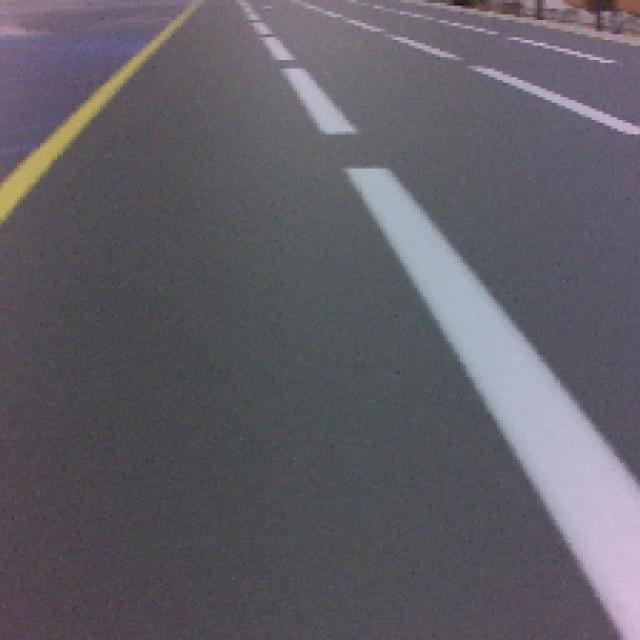Road: (0, 310, 628, 640)
